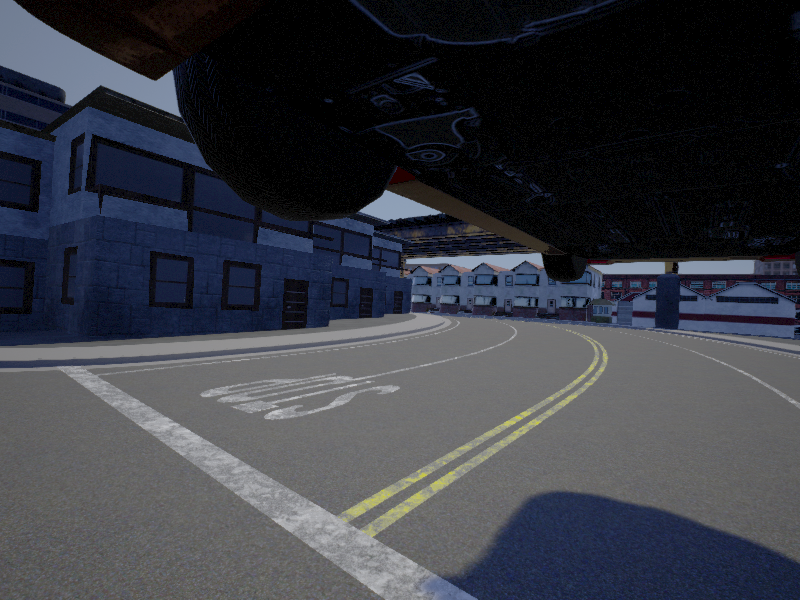Attacker: (8, 1, 800, 280)
